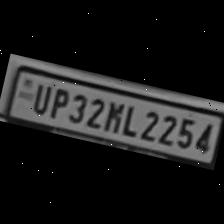2: (135, 104, 162, 143), (82, 91, 108, 129), (154, 109, 180, 146)
3: (64, 87, 90, 125)
4: (192, 117, 218, 154)
5: (172, 114, 198, 150)
L: (119, 100, 142, 138)
M: (100, 96, 127, 134)
P: (46, 84, 72, 120)
U: (27, 79, 52, 116)
